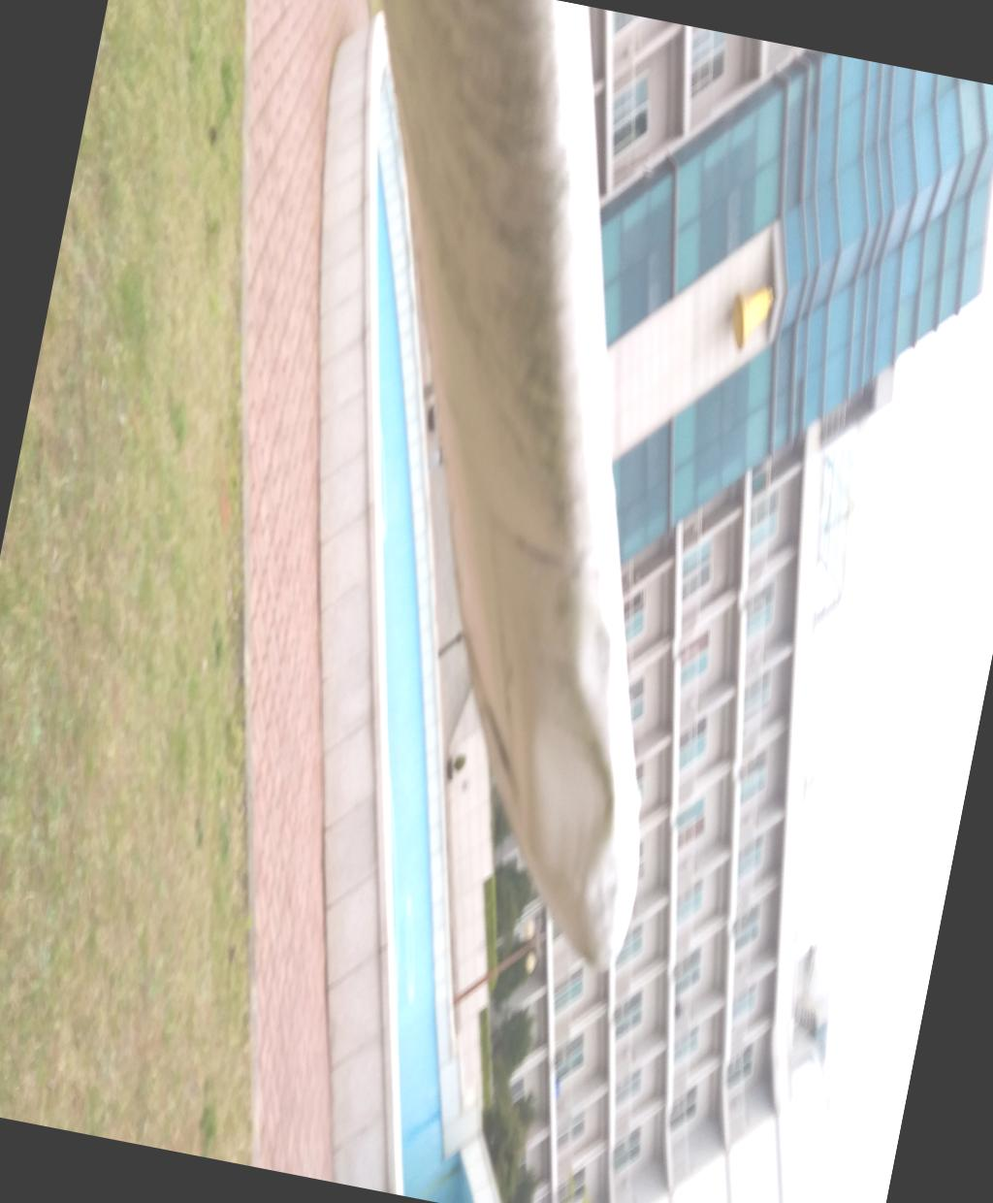dent: (586, 257, 725, 484), (686, 341, 751, 438)
